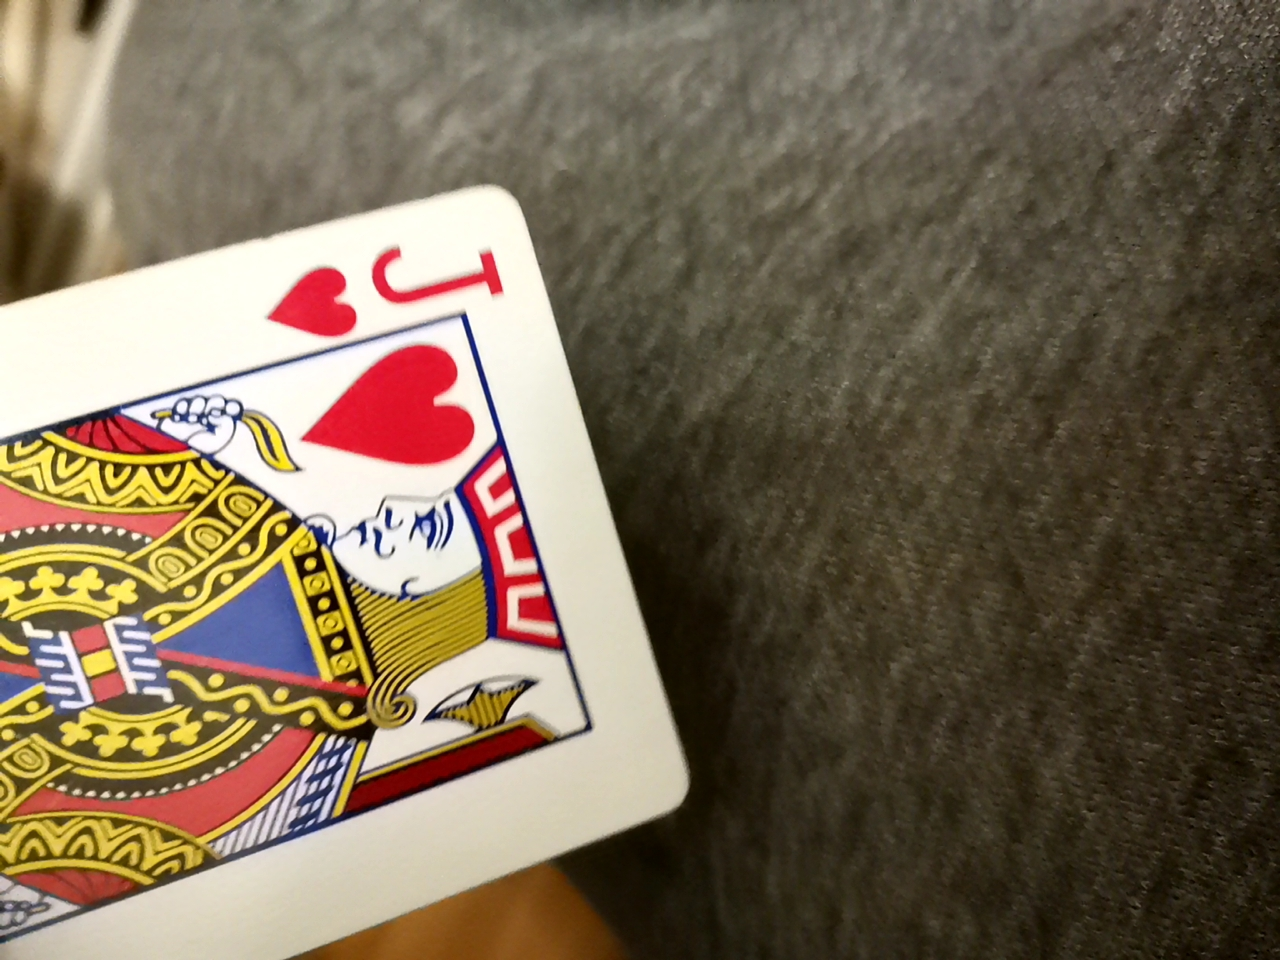hx j: (2, 186, 721, 959)
